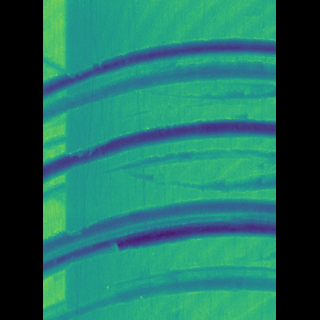Loch: (73, 35, 244, 127), (74, 195, 244, 284), (73, 114, 244, 186), (75, 262, 245, 320), (122, 146, 245, 195)
